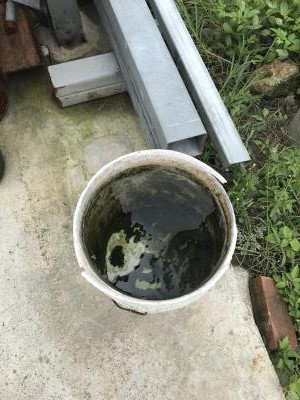bucket: (70, 145, 242, 319)
